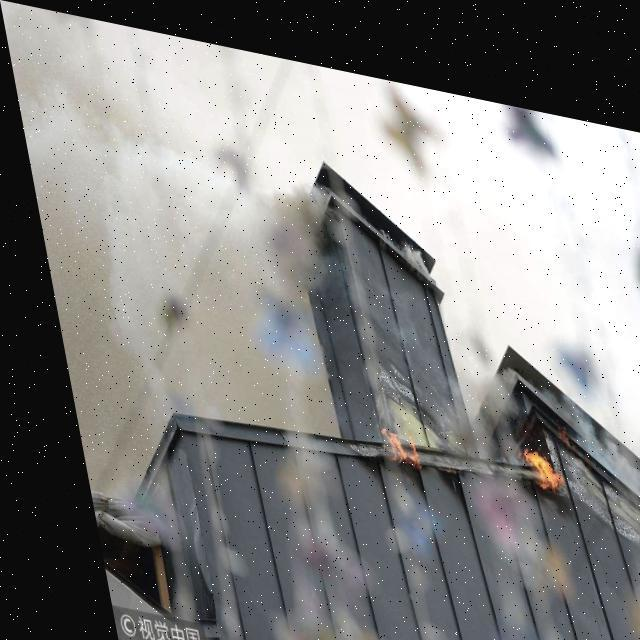Fire: (504, 418, 554, 484), (363, 408, 410, 463)
